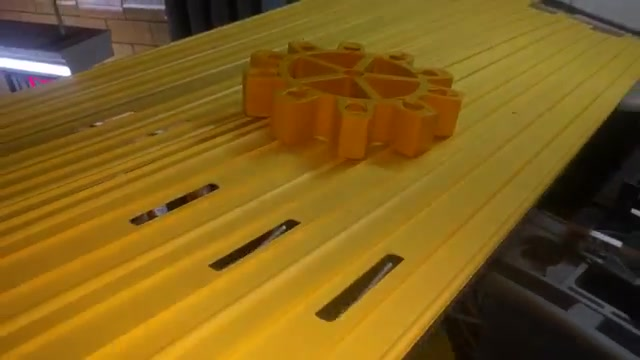gear: (235, 29, 477, 169)
